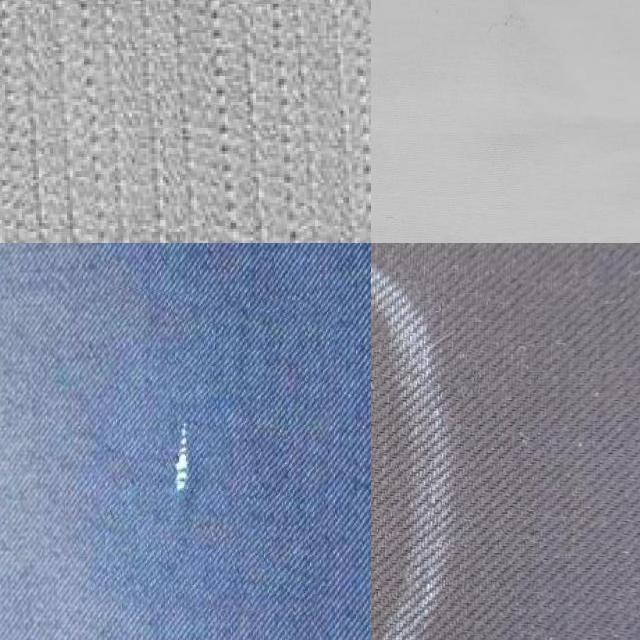Thread_other: (94, 289, 332, 611)
